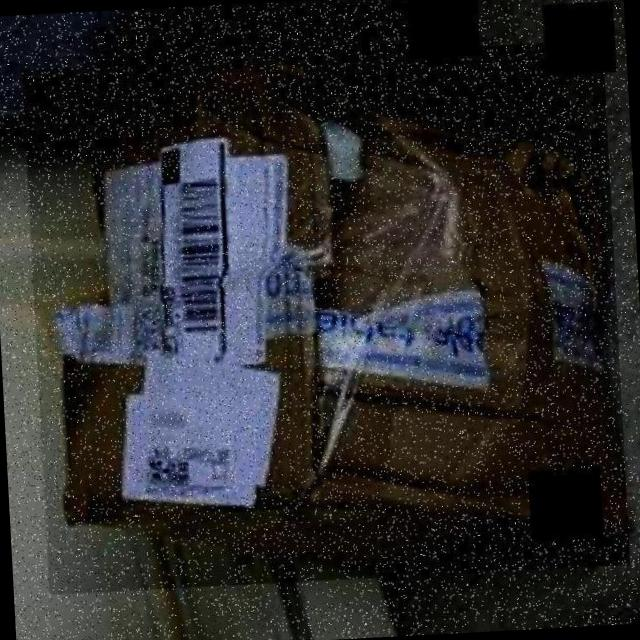box: (22, 38, 630, 594)
